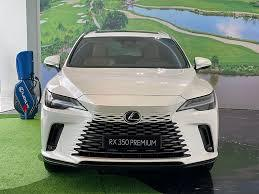lexus: (121, 107, 148, 129)
